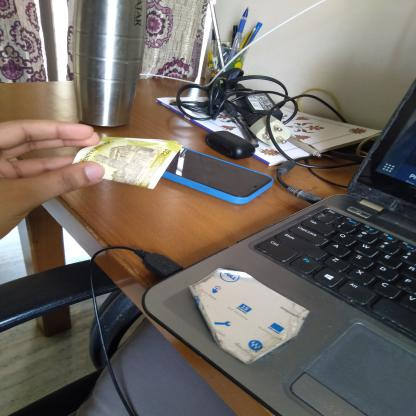New20Back: (73, 134, 173, 184)
